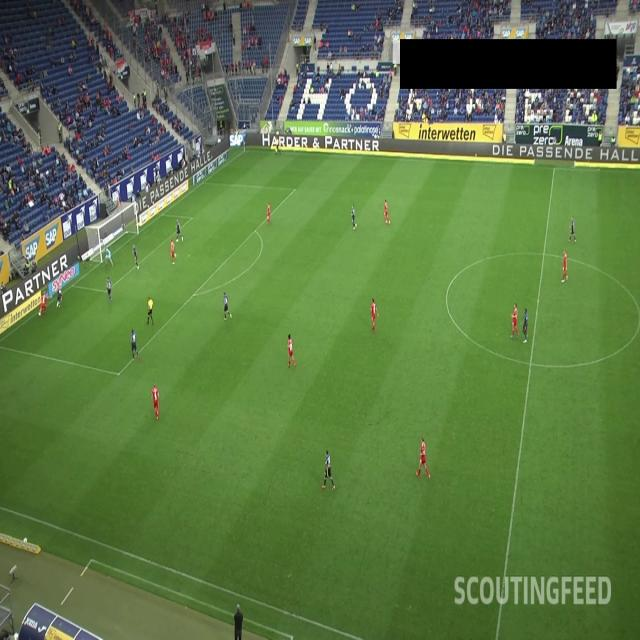ball: (37, 310, 42, 319)
player: (322, 450, 336, 494), (416, 435, 429, 482), (286, 334, 297, 371), (130, 328, 140, 363), (222, 292, 232, 324), (511, 300, 519, 340), (152, 386, 160, 419), (349, 202, 358, 231), (562, 248, 569, 285), (370, 299, 378, 331), (39, 289, 48, 316), (569, 215, 577, 242), (523, 309, 529, 344), (382, 197, 390, 223), (175, 218, 183, 242), (105, 274, 112, 301), (133, 244, 140, 271), (169, 239, 176, 266), (105, 246, 113, 268), (56, 285, 62, 309), (266, 200, 270, 226)
